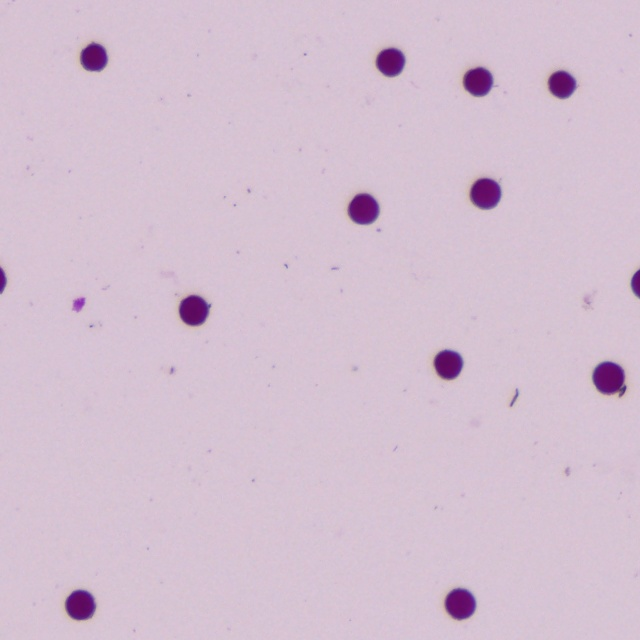viable: (593, 362, 624, 395), (446, 589, 475, 619), (349, 194, 378, 224), (471, 179, 500, 208), (180, 296, 209, 325), (67, 591, 95, 619), (435, 351, 462, 379), (464, 68, 492, 95), (377, 49, 404, 76), (81, 43, 107, 71), (549, 72, 576, 98)
